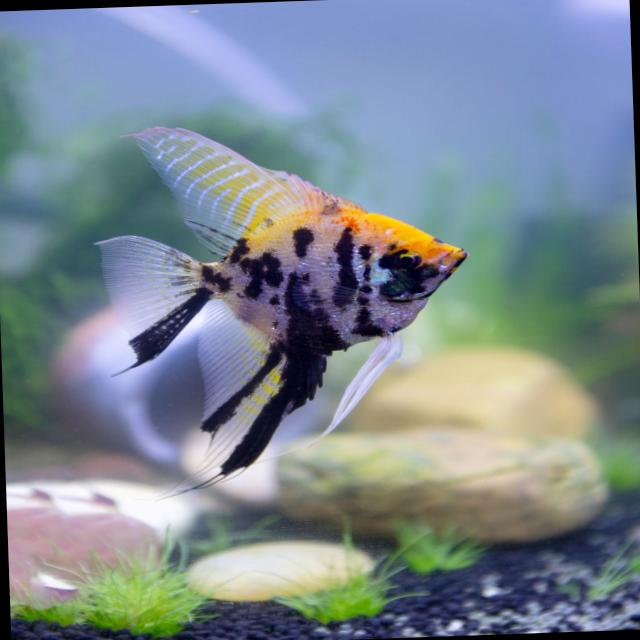AngelFish: (105, 110, 478, 501)
